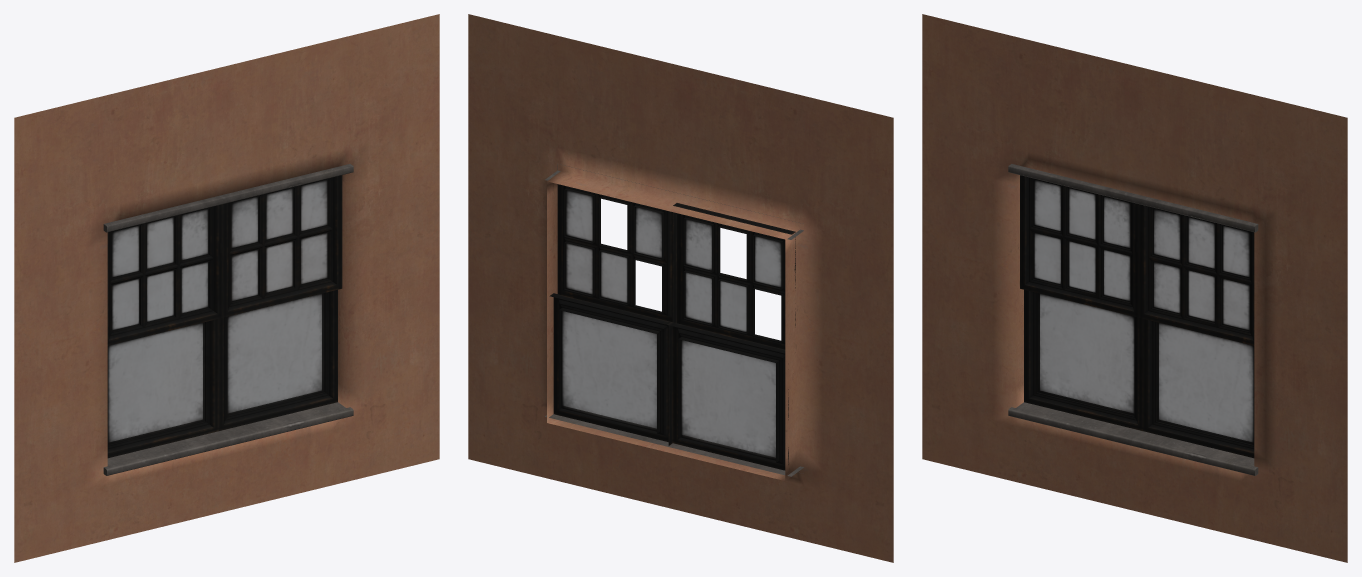
Rendered from wall_window_centered_large_03.glb.
3 views of the same model, side by side, from view 1: azimuth 30°, elevation 25°; view 2: azimuth 150°, elevation 25°; view 3: azimuth 330°, elevation 25° (orthographic).
Visible parts, largest first — view 1: wall_window_centered_large_03, window_centered_large_03; view 2: wall_window_centered_large_03, window_centered_large_03; view 3: wall_window_centered_large_03, window_centered_large_03.
Boxes of the visible parts, x1,y1,x2,y2 form: wall_window_centered_large_03: (14,14,439,562); window_centered_large_03: (103,164,353,475); wall_window_centered_large_03: (468,14,893,562); window_centered_large_03: (545,164,803,476); wall_window_centered_large_03: (922,14,1347,562); window_centered_large_03: (1008,164,1258,475).
Bounding box in the file's own units: 3 × 3 × 0.2205.
4 materials, 4 textured.
